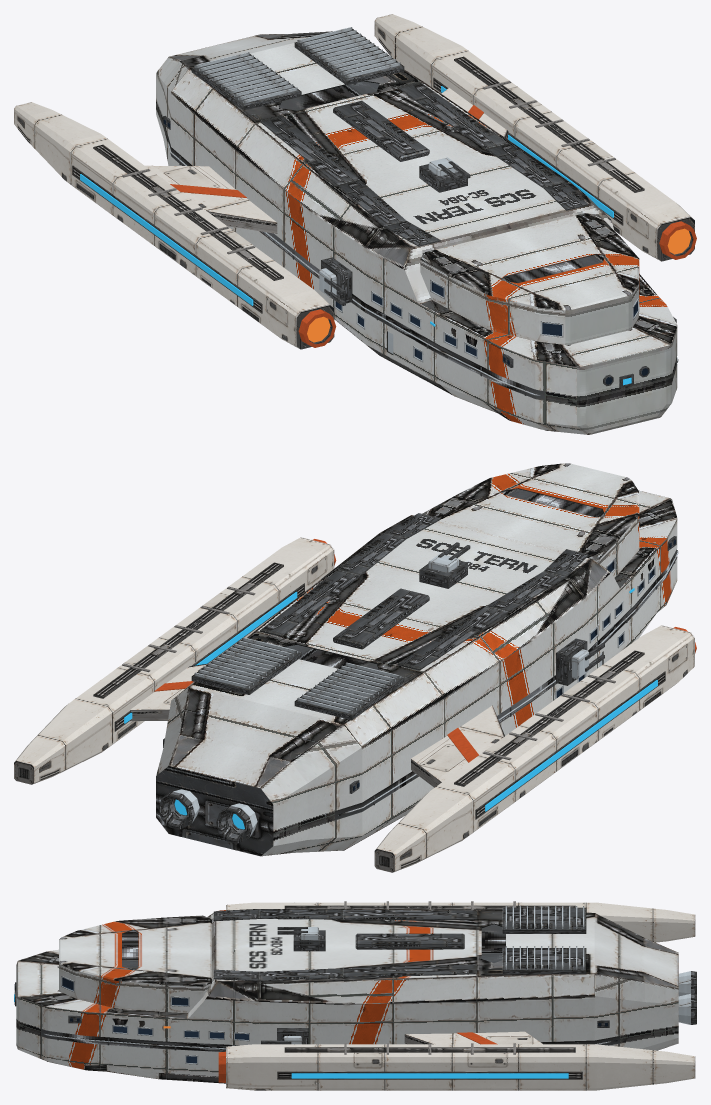
The model's file is tern.glb.
The picture shows the model from 3 angles, top to bottom: view 1: azimuth 30°, elevation 25°; view 2: azimuth 150°, elevation 25°; view 3: azimuth 270°, elevation 25°; orthographic projection. The views are drawn at different scales.
Visible parts, largest first — view 1: tern; view 2: tern; view 3: tern.
Part boxes in pixels (x1=…): tern: x1=14, y1=14, x2=696, y2=434; tern: x1=14, y1=463, x2=696, y2=872; tern: x1=14, y1=901, x2=696, y2=1090.
Bounding box in the file's own units: 45 × 18.04 × 81.47.
7 materials, 5 textured.
